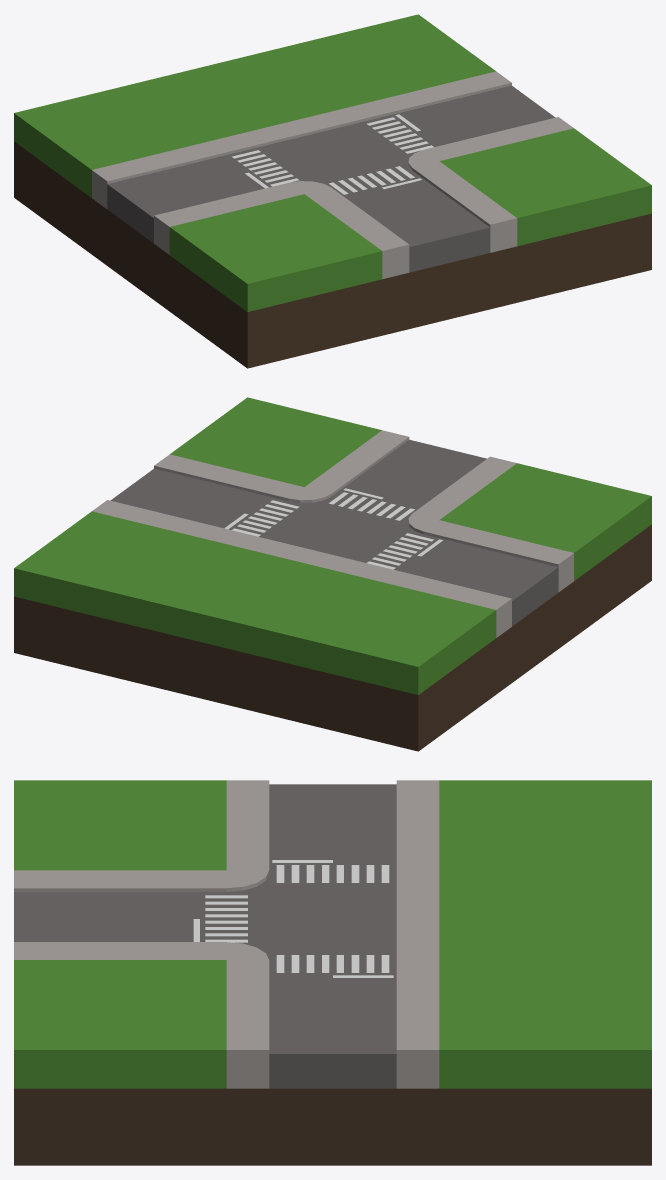
Rendered from tile-road-intersection-t.fbx.
3 renders of one model, top to bottom at view 1: azimuth 30°, elevation 25°; view 2: azimuth 150°, elevation 25°; view 3: azimuth 270°, elevation 25°, orthographic. The views are drawn at different scales.
Visible parts, largest first — view 1: tile-road-intersection-t; view 2: tile-road-intersection-t; view 3: tile-road-intersection-t.
Boxes of the visible parts, x1,y1,x2,y2 form: tile-road-intersection-t: (14,14,651,368); tile-road-intersection-t: (14,397,651,751); tile-road-intersection-t: (14,780,651,1165).
Bounding box in the file's own units: 30 × 6 × 30.
